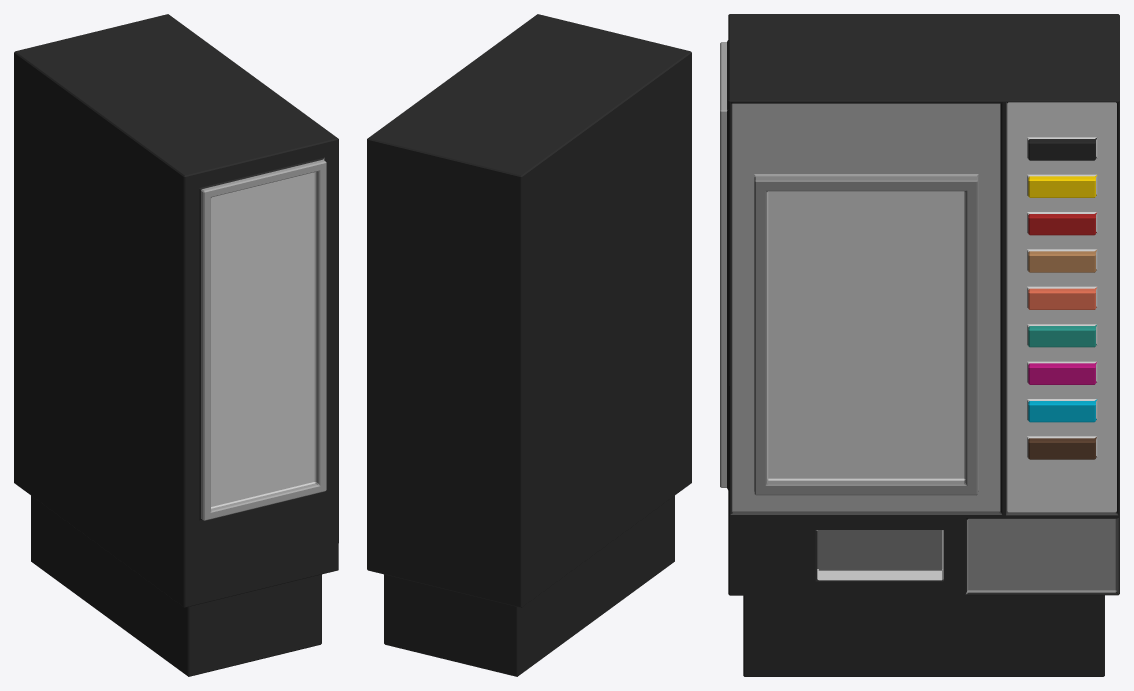
File: TobaccoMachine.fbx
3 views of the same model, side by side, from view 1: azimuth 30°, elevation 25°; view 2: azimuth 150°, elevation 25°; view 3: azimuth 270°, elevation 25° (orthographic). The views are drawn at different scales.
Parts seen in each view (by area): view 1: Plane; view 2: Plane; view 3: Plane.
Boxes of the visible parts, bbox=[...] form: Plane: bbox=[14, 14, 338, 676]; Plane: bbox=[367, 14, 691, 676]; Plane: bbox=[720, 14, 1119, 676].
Size of the model in its own units: 75.38 by 228 by 142.
